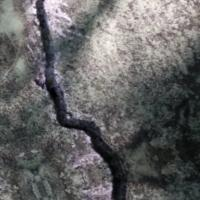crack: (24, 0, 134, 199)
